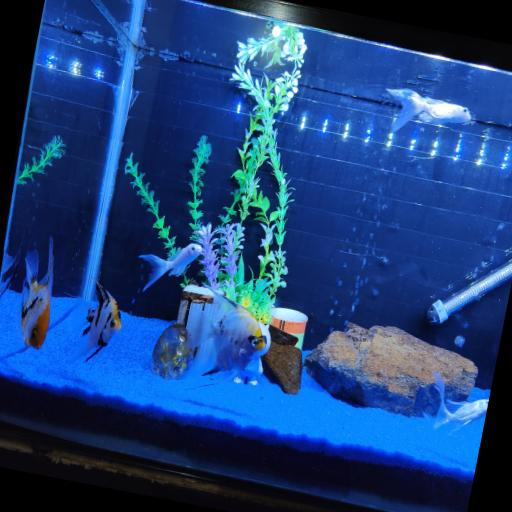Fish: (178, 285, 267, 380), (72, 281, 121, 361), (20, 238, 53, 348), (386, 89, 470, 132), (434, 372, 488, 430), (140, 244, 201, 291), (0, 251, 19, 298)
